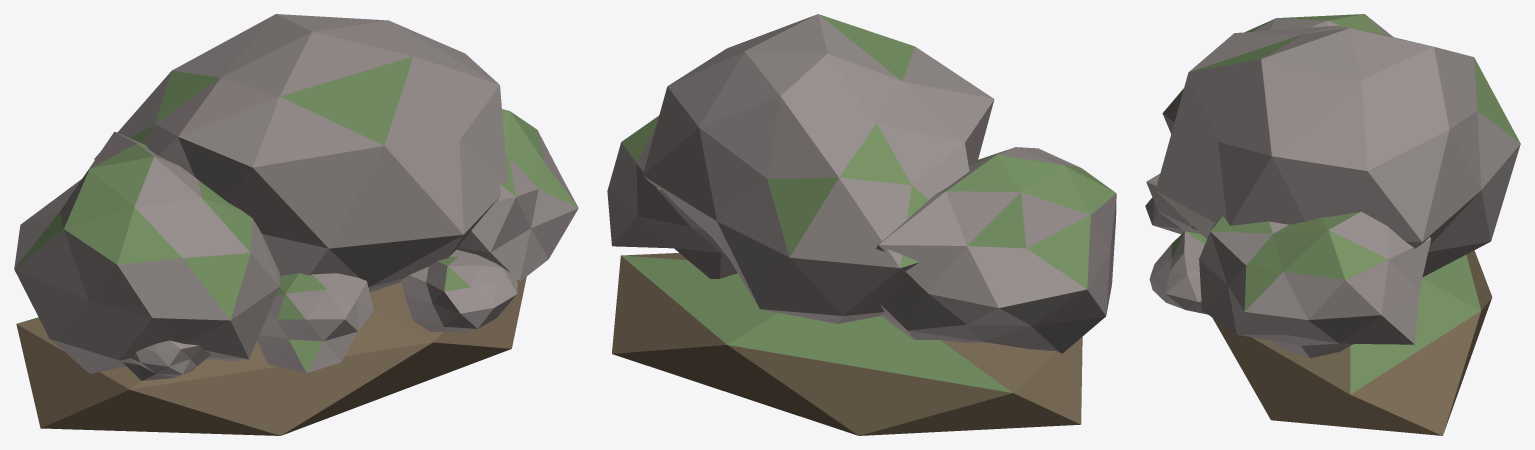
File: edge_rocks.glb
3 views of the same model, side by side, from view 1: azimuth 30°, elevation 25°; view 2: azimuth 150°, elevation 25°; view 3: azimuth 270°, elevation 25° (orthographic). The views are drawn at different scales.
Parts seen in each view (by area): view 1: edge_rocks; view 2: edge_rocks; view 3: edge_rocks.
Part boxes in pixels (x1,y1,x2,y2): edge_rocks: (14, 14, 578, 435); edge_rocks: (607, 14, 1116, 435); edge_rocks: (1145, 14, 1520, 435).
Size of the model in its own units: 4.91 by 3.32 by 3.18.
